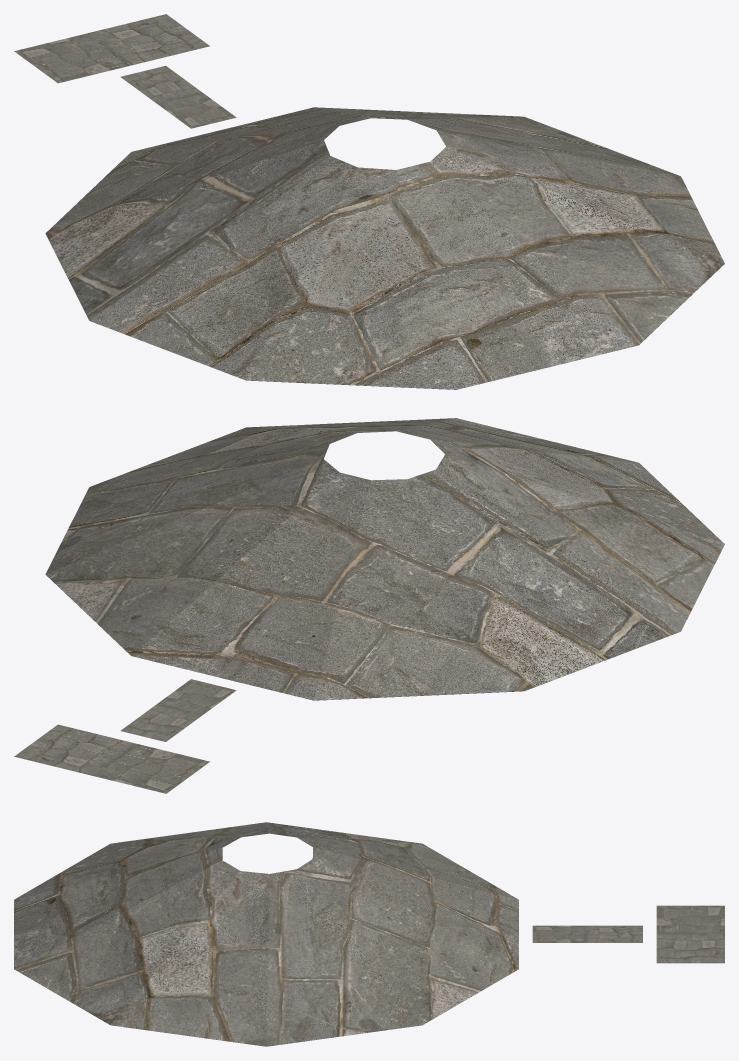
The model's file is tetti.fbx.
3 renders of one model, top to bottom at view 1: azimuth 30°, elevation 25°; view 2: azimuth 150°, elevation 25°; view 3: azimuth 270°, elevation 25°, orthographic. The views are drawn at different scales.
Parts seen in each view (by area): view 1: tetto hall, Tetto ufficio, tetto corridoio; view 2: tetto hall, Tetto ufficio, tetto corridoio; view 3: tetto hall, Tetto ufficio, tetto corridoio.
Boxes of the visible parts, x1=… form: tetto hall: x1=45, y1=107, x2=724, y2=389; Tetto ufficio: x1=14, y1=14, x2=209, y2=83; tetto corridoio: x1=120, y1=65, x2=236, y2=128; tetto hall: x1=45, y1=418, x2=724, y2=700; Tetto ufficio: x1=14, y1=724, x2=209, y2=793; tetto corridoio: x1=120, y1=679, x2=236, y2=741; tetto hall: x1=14, y1=822, x2=518, y2=1046; Tetto ufficio: x1=656, y1=905, x2=724, y2=963; tetto corridoio: x1=532, y1=925, x2=642, y2=942.
Bounding box in the file's own units: 3884 × 658 × 5200.
